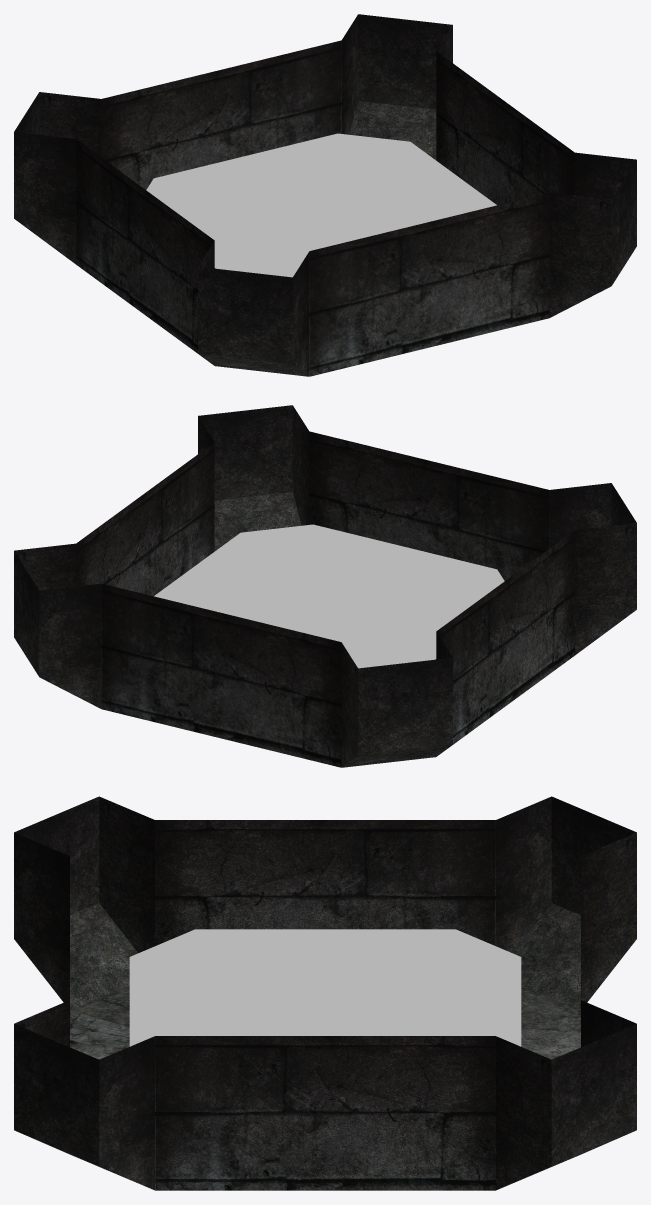
File: window.dae
3 renders of one model, top to bottom at view 1: azimuth 30°, elevation 25°; view 2: azimuth 150°, elevation 25°; view 3: azimuth 270°, elevation 25°, orthographic. The views are drawn at different scales.
Parts seen in each view (by area): view 1: polySurface4, polySurface5; view 2: polySurface4, polySurface5; view 3: polySurface4, polySurface5.
Boxes of the visible parts, box(x1,y1,x2,y2) form: polySurface4: box(14, 14, 636, 376); polySurface5: box(146, 133, 496, 277); polySurface4: box(14, 405, 636, 767); polySurface5: box(154, 524, 504, 668); polySurface4: box(14, 796, 636, 1190); polySurface5: box(129, 929, 521, 1046).
Size of the model in its own units: 3.66 by 1 by 3.66.
